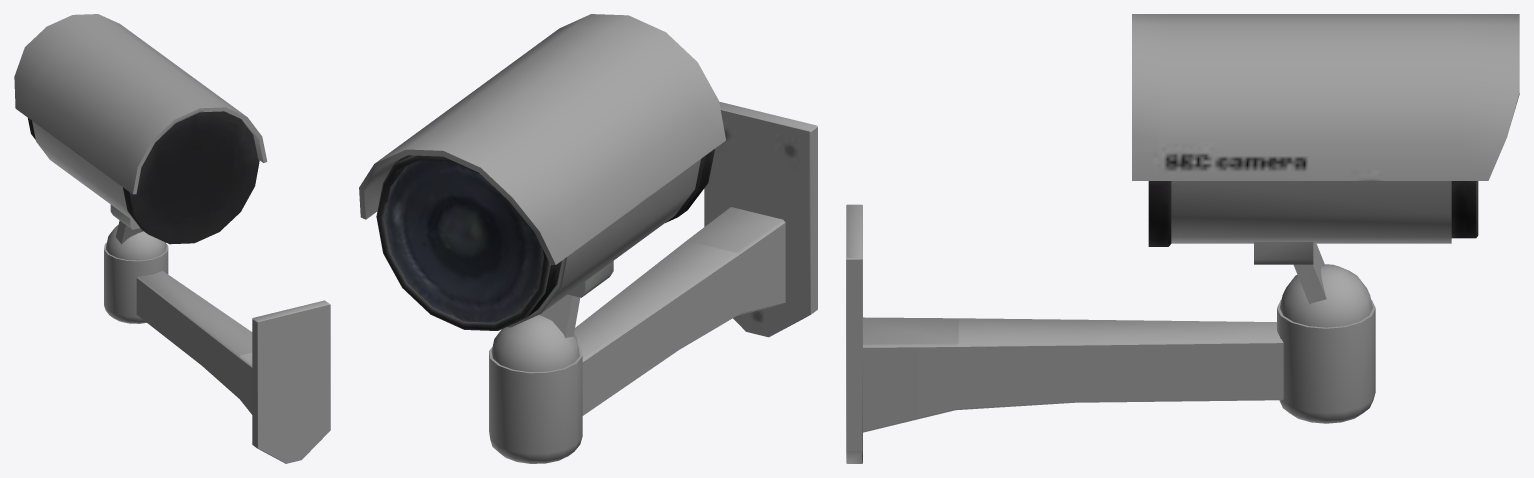
The model's file is camera.glb.
3 views of the same model, side by side, from view 1: azimuth 30°, elevation 25°; view 2: azimuth 150°, elevation 25°; view 3: azimuth 270°, elevation 25° (orthographic). The views are drawn at different scales.
Visible parts, largest first — view 1: SecurityCamera; view 2: SecurityCamera; view 3: SecurityCamera.
Boxes of the visible parts, x1=… form: SecurityCamera: x1=14, y1=14, x2=330, y2=463; SecurityCamera: x1=359, y1=14, x2=817, y2=463; SecurityCamera: x1=846, y1=14, x2=1519, y2=463.
Bounding box in the file's own units: 1.01 × 2.05 × 2.89.
1 material, 1 textured.
